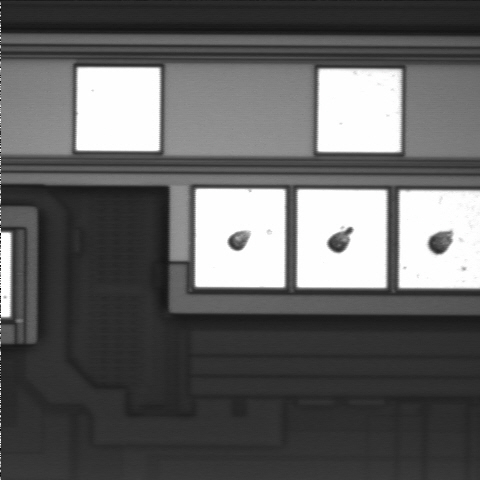pad: (195, 189, 285, 287), (297, 189, 386, 288), (76, 67, 160, 151), (318, 69, 401, 152)
